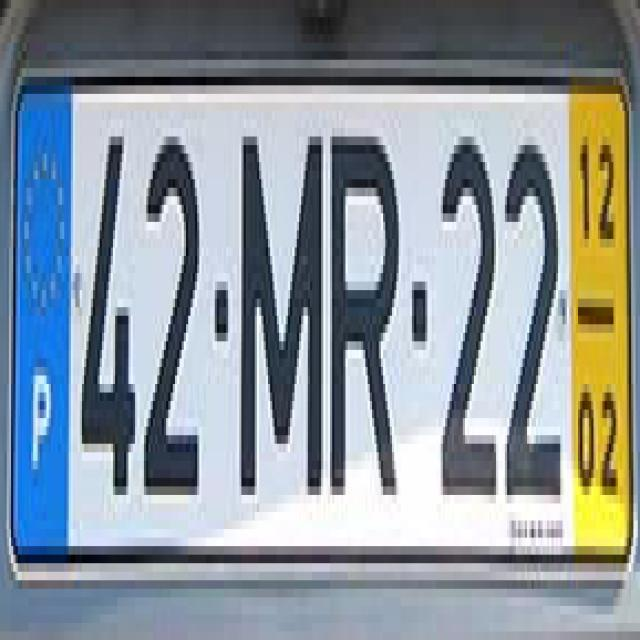EU: (8, 70, 626, 549)
Portugal: (12, 86, 72, 553)
